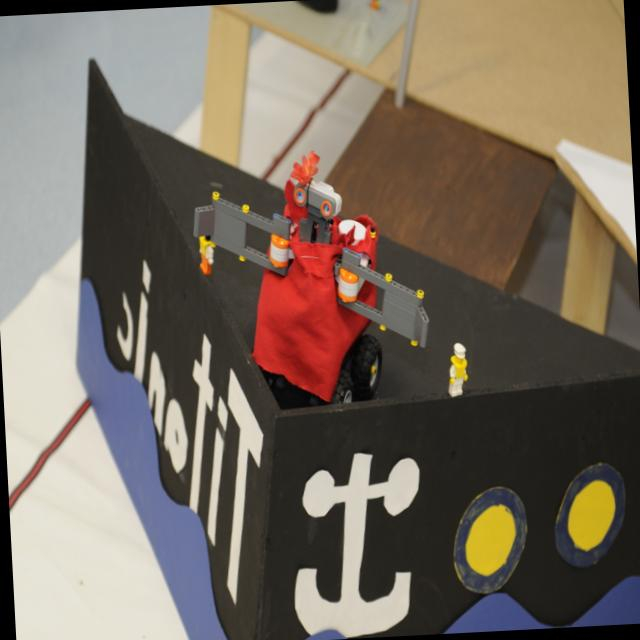Toy: (194, 142, 439, 416), (444, 340, 470, 397)
